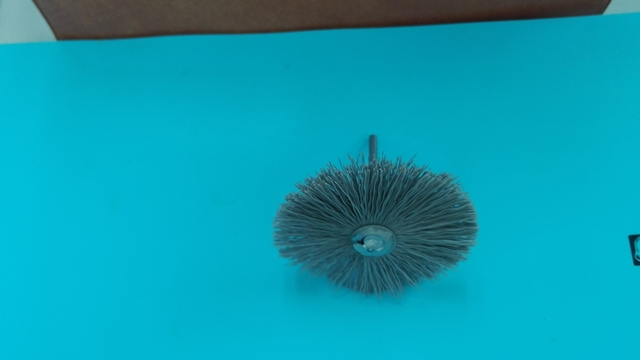TOOL: (176, 141, 543, 315), (224, 87, 494, 323), (256, 101, 517, 274), (333, 115, 524, 314), (230, 129, 438, 301)
